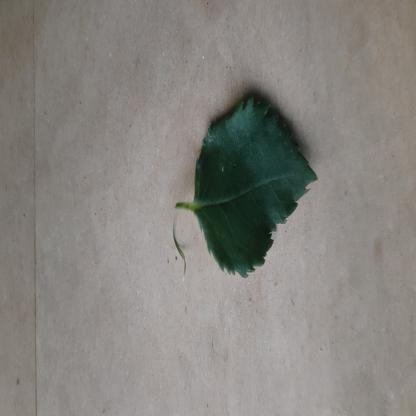downy-mildew: (192, 91, 318, 280)
